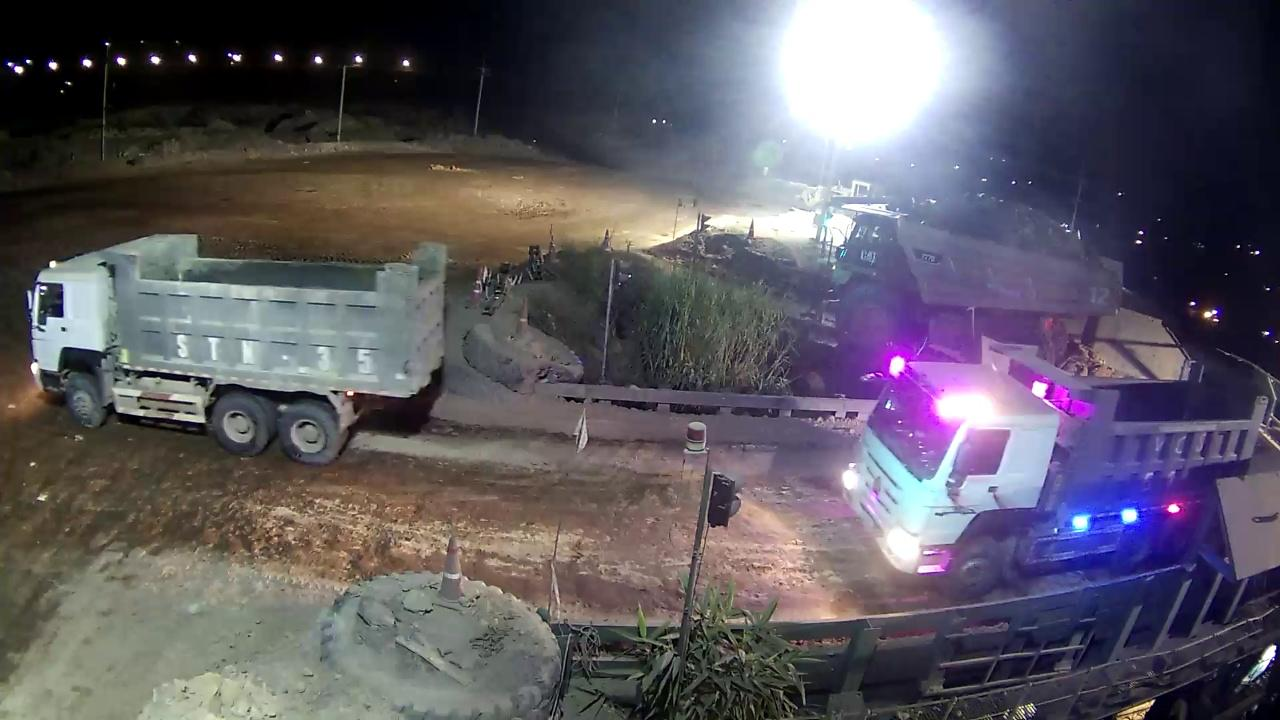full_load: (932, 180, 1077, 253)
mining_truck: (820, 171, 1133, 362)
tail_number: (1082, 282, 1114, 311)
